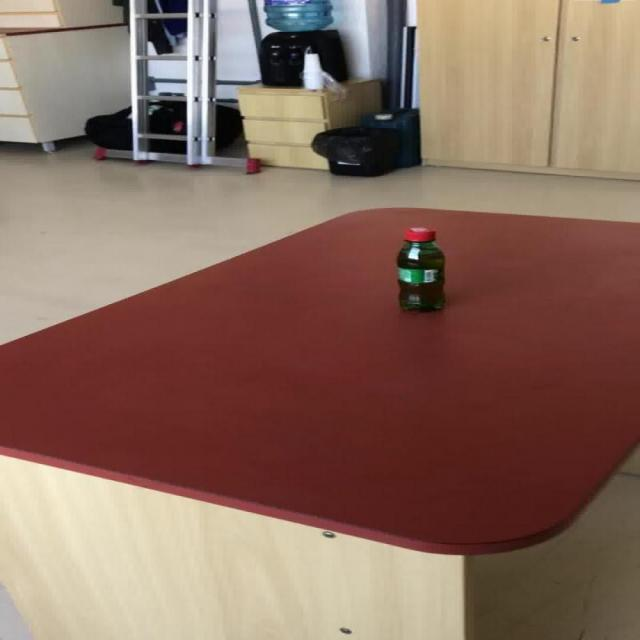Guarana: (394, 226, 445, 311)
